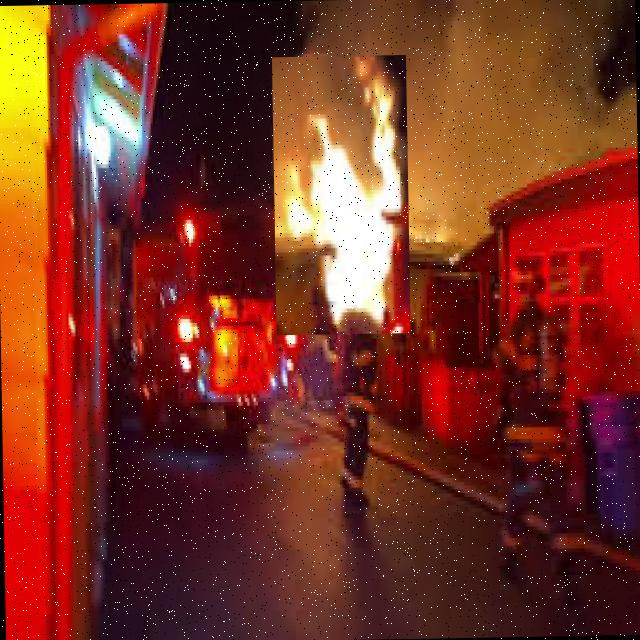fire: (272, 54, 411, 335)
